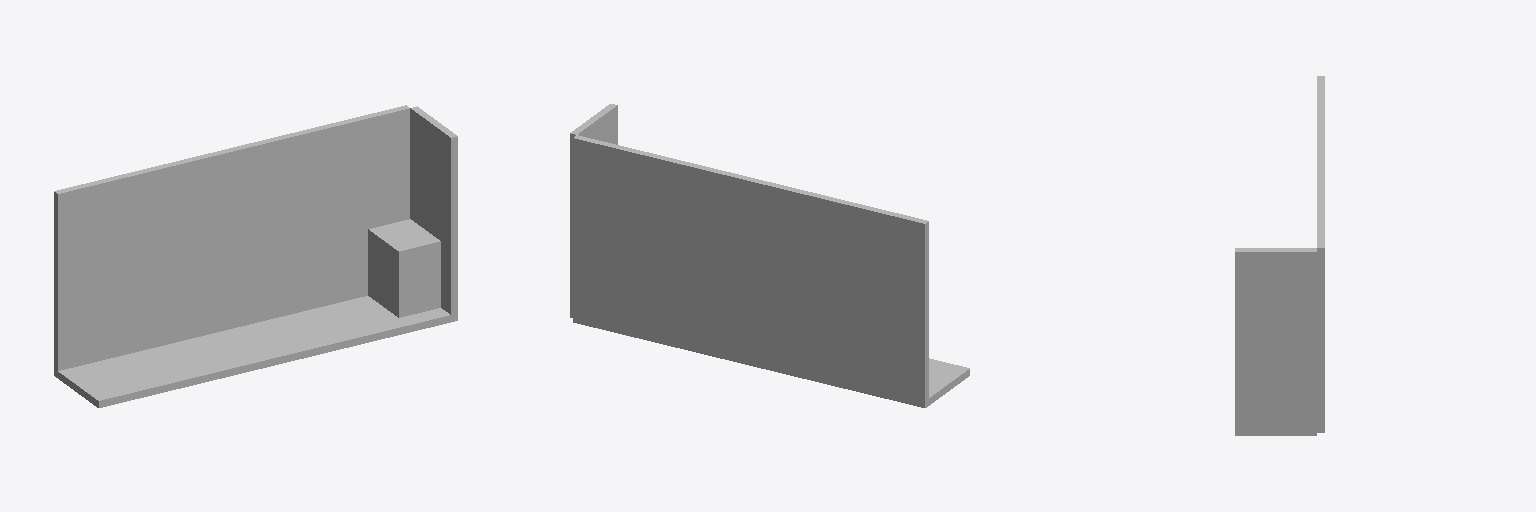
File: books-corner.obj
3 views of the same model, side by side, from view 1: azimuth 30°, elevation 25°; view 2: azimuth 150°, elevation 25°; view 3: azimuth 270°, elevation 25° (orthographic).
Visible parts, largest first — view 1: Object.2, Object.1, Object.6, Object.4, Object.3, Object.5; view 2: Object.2, Object.6, Object.1; view 3: Object.6, Object.2.
Part boxes in pixels (x1,y1,x2,y2): Object.2: (54, 105, 409, 377); Object.1: (58, 296, 450, 407); Object.6: (410, 106, 457, 321); Object.4: (368, 226, 412, 317); Object.3: (383, 222, 426, 313); Object.5: (397, 219, 440, 310); Object.2: (573, 135, 928, 407); Object.6: (570, 104, 617, 317); Object.1: (929, 358, 969, 405); Object.6: (1235, 248, 1316, 435); Object.2: (1317, 76, 1324, 432).
Size of the model in its own units: 1020 by 500 by 220.